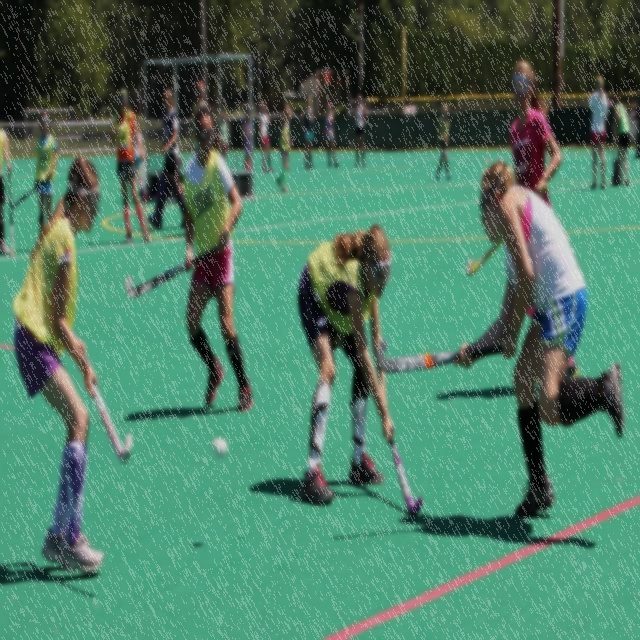pessoa: (453, 158, 624, 518), (11, 152, 106, 576), (296, 223, 394, 504), (183, 102, 254, 412), (508, 58, 564, 209), (110, 88, 150, 244), (147, 86, 187, 230), (583, 74, 609, 191), (34, 111, 58, 236), (0, 124, 14, 256), (610, 96, 630, 186), (276, 108, 294, 192), (434, 104, 452, 182), (352, 92, 370, 170), (298, 96, 316, 170), (258, 100, 274, 173), (192, 80, 208, 150), (324, 98, 339, 168), (280, 101, 293, 171), (132, 122, 145, 192), (242, 106, 252, 176), (240, 110, 250, 160), (220, 110, 228, 163), (634, 100, 640, 160)
